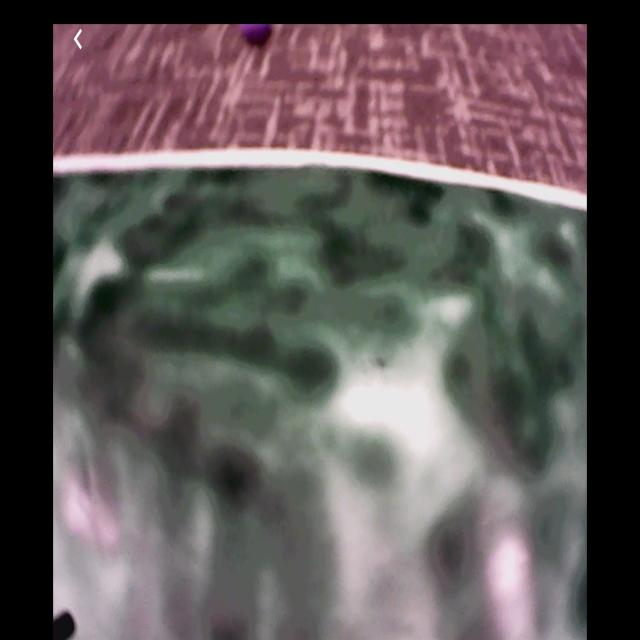ball: (241, 24, 274, 48)
